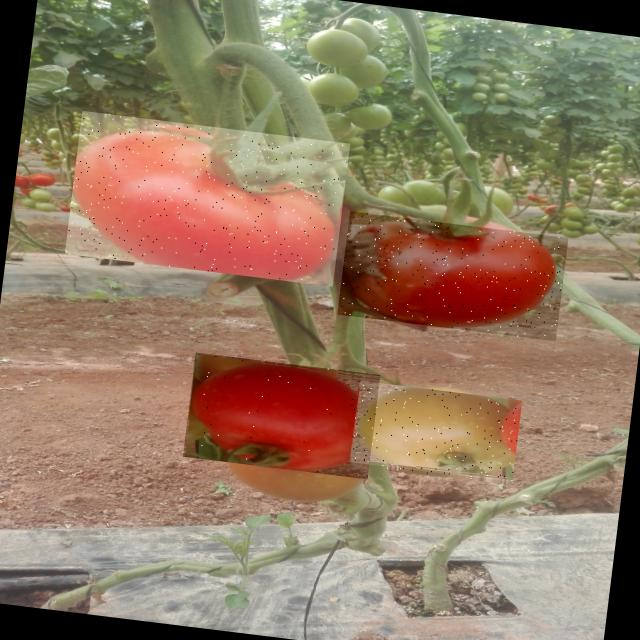Ripe Tomato: (64, 110, 350, 286), (337, 212, 568, 342), (182, 352, 380, 479)
Unripe Tomato: (348, 381, 522, 484)
